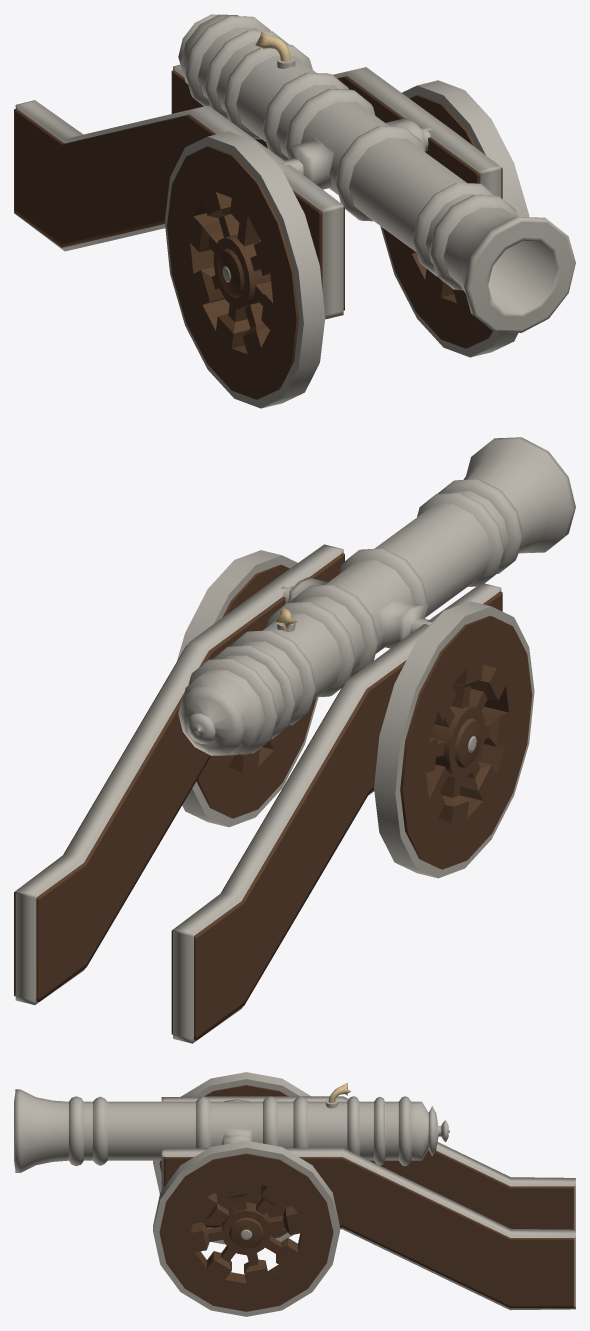
File: cañon.fbx
The picture shows the model from 3 angles, top to bottom: view 1: azimuth 30°, elevation 25°; view 2: azimuth 150°, elevation 25°; view 3: azimuth 270°, elevation 25°; orthographic projection. The views are drawn at different scales.
Parts seen in each view (by area): view 1: cañon; view 2: cañon; view 3: cañon.
Part boxes in pixels (x1,y1,x2,y2): cañon: [14, 14, 575, 408]; cañon: [14, 437, 575, 1043]; cañon: [14, 1072, 575, 1316].
Bounding box in the file's own units: 207 × 232 × 607.
